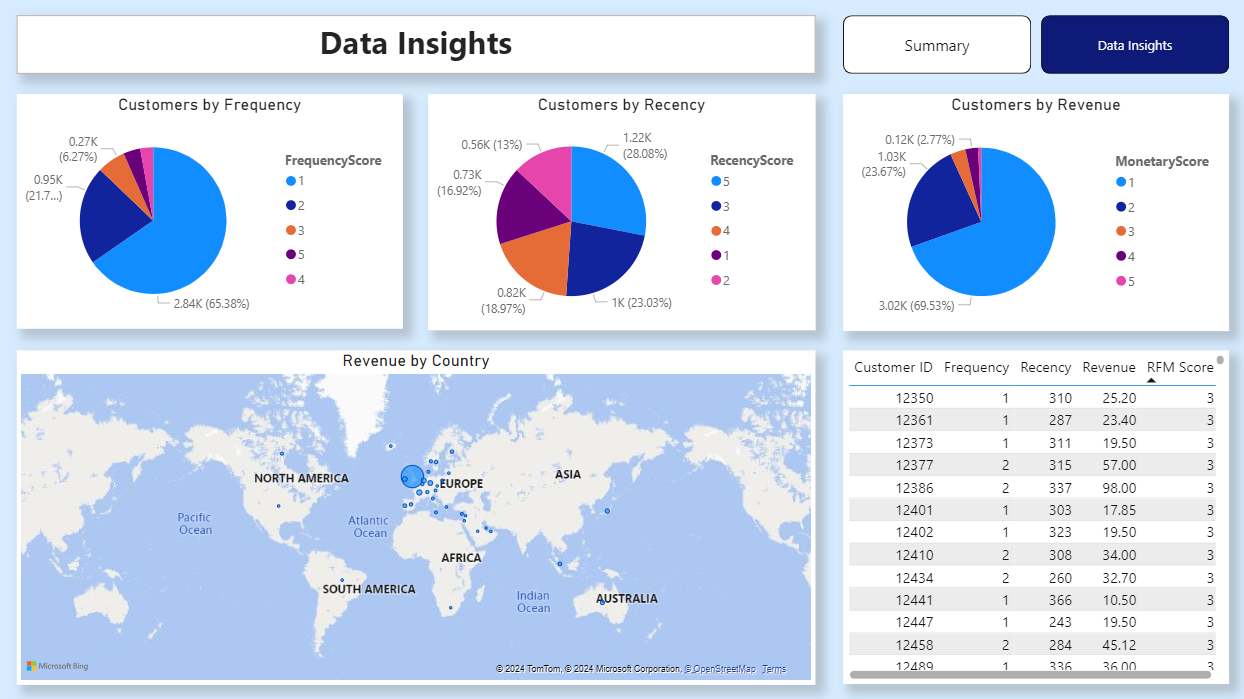

The page's visual inventory and layout, read from the dashboard file:
{"tool":"powerbi","page":{"name":"Data Insights","canvas":[1280,720],"ordinal":1},"visuals":[{"type":"map","title":"Revenue by Country","fields":{"Category":["data.Country"],"Size":["Sum(data.TotalPrice)"]},"box":[19.2,360.3,819.2,343.6],"z":0},{"type":"tableEx","fields":{"Values":["RFM_Summary.CustomerID","RFM_Summary.Frequency","RFM_Summary.Recency","RFM_Summary.Monetary","RFM_Summary.TotalRFMScore"]},"box":[866.7,360.3,396.2,342.3],"z":1000},{"type":"pieChart","title":"Customers by Frequency","fields":{"Category":["RFM_Summary.FrequencyScore"],"Y":["Count(RFM_Summary.CustomerID)"]},"box":[19.2,97.4,396.2,241],"z":2000},{"type":"pieChart","title":"Customers by Revenue","fields":{"Y":["CountNonNull(RFM_Summary.CustomerID)"],"Category":["RFM_Summary.MonetaryScore"]},"box":[866.7,97.4,396.2,243.6],"z":3000},{"type":"pieChart","title":"Customers by Recency","fields":{"Category":["RFM_Summary.RecencyScore"],"Y":["CountNonNull(RFM_Summary.CustomerID)"]},"box":[441,97.4,397.4,242.3],"z":4000},{"type":"qnaVisual","box":[853.8,276.8,300,150],"z":5000},{"type":"textbox","title":"Summa","box":[19.2,16.7,819.2,60.3],"z":5001},{"type":"pageNavigator","box":[866.7,16.7,396.2,60.3],"z":5002}]}

Visuals, with their boxes in screenshot pixels (x1, y1, x2, y2), scaled from the page's 1280x720 canvas onto the 1244x699 screenshot:
"Revenue by Country" map: detection(19, 350, 815, 683)
tableEx - RFM_Summary.CustomerID x RFM_Summary.Frequency: detection(842, 350, 1227, 682)
"Customers by Frequency" pieChart: detection(19, 95, 404, 329)
"Customers by Revenue" pieChart: detection(842, 95, 1227, 331)
"Customers by Recency" pieChart: detection(429, 95, 815, 330)
qnaVisual: detection(830, 269, 1121, 414)
"Summa" textbox: detection(19, 16, 815, 75)
pageNavigator: detection(842, 16, 1227, 75)
